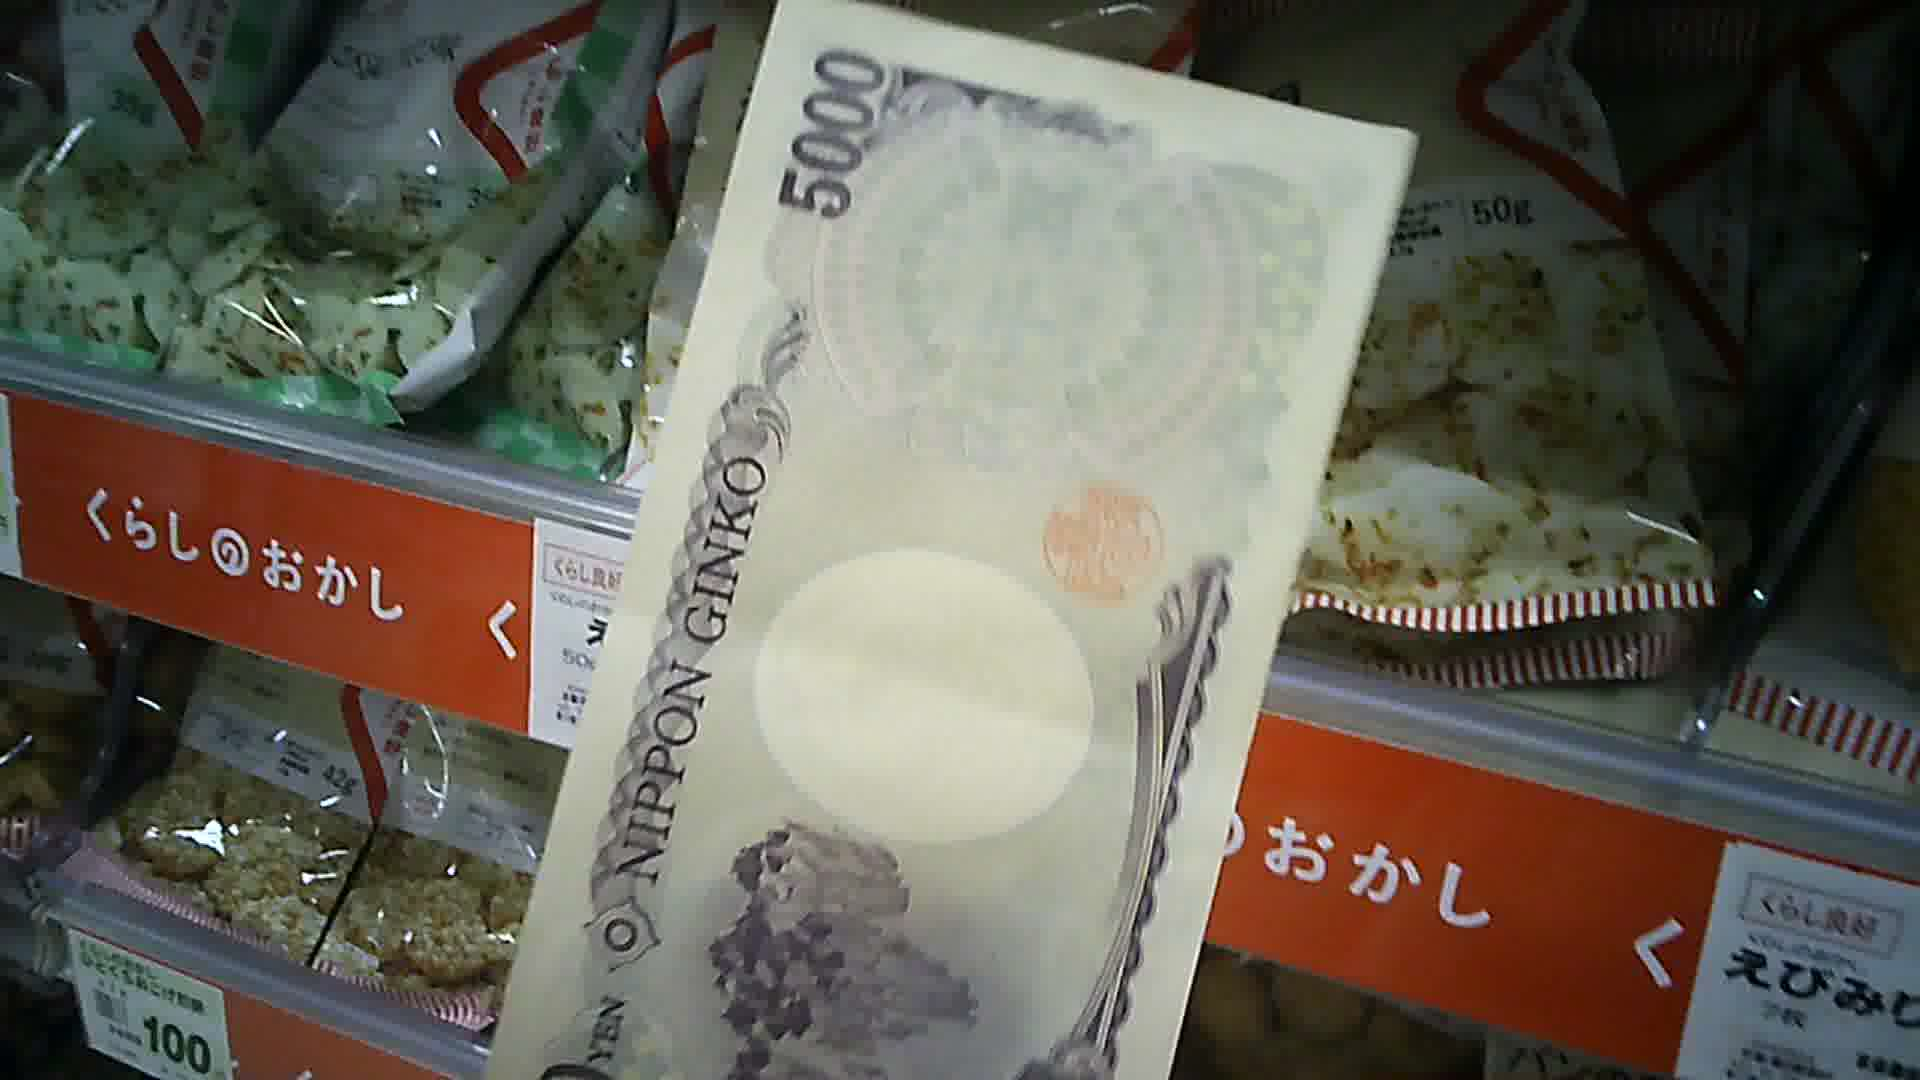5,000 Yen: (583, 3, 1374, 1079)
